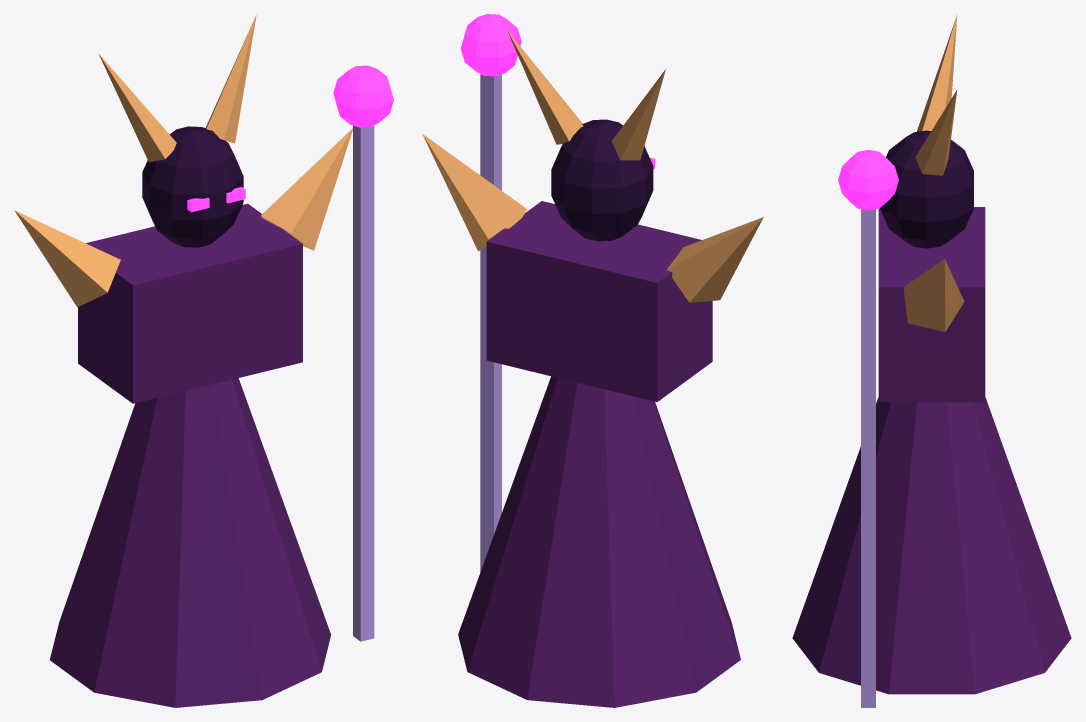
The model's file is arpg.warden.glb.
3 renders of one model, left to right at view 1: azimuth 30°, elevation 25°; view 2: azimuth 150°, elevation 25°; view 3: azimuth 270°, elevation 25°, orthographic. The views are drawn at different scales.
Parts seen in each view (by area): view 1: warden_robe, warden_staff, warden_head, warden_shoulders, warden_horns; view 2: warden_robe, warden_staff, warden_head, warden_shoulders, warden_horns; view 3: warden_robe, warden_staff, warden_head, warden_horns, warden_shoulders.
Boxes of the visible parts, x1=… form: warden_robe: x1=50, y1=203, x2=330, y2=707; warden_staff: x1=333, y1=65, x2=393, y2=641; warden_head: x1=142, y1=126, x2=245, y2=247; warden_shoulders: x1=14, y1=128, x2=352, y2=307; warden_horns: x1=98, y1=14, x2=256, y2=162; warden_robe: x1=458, y1=201, x2=740, y2=707; warden_staff: x1=460, y1=14, x2=521, y2=571; warden_head: x1=551, y1=119, x2=655, y2=241; warden_shoulders: x1=422, y1=134, x2=763, y2=302; warden_horns: x1=507, y1=30, x2=665, y2=160; warden_robe: x1=792, y1=207, x2=1071, y2=694; warden_staff: x1=838, y1=150, x2=898, y2=707; warden_head: x1=880, y1=130, x2=973, y2=248; warden_horns: x1=915, y1=15, x2=957, y2=175; warden_shoulders: x1=903, y1=259, x2=964, y2=331.
Size of the model in its own units: 1.5 by 2.55 by 1.1.
